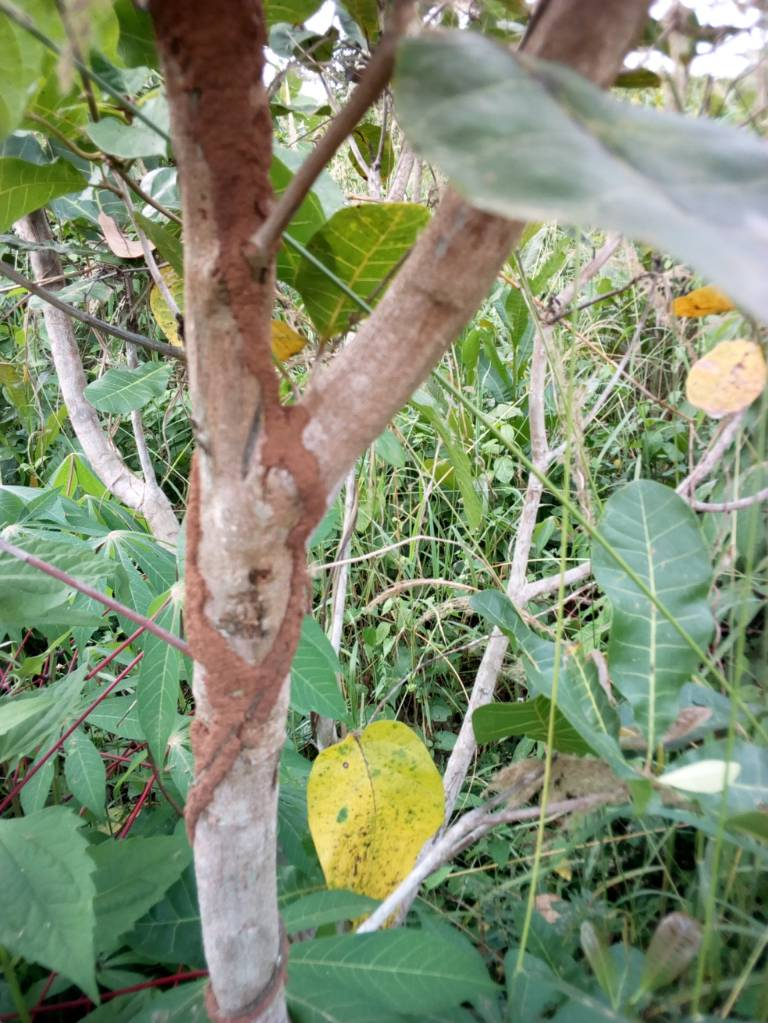Termites: (179, 2, 302, 472), (183, 488, 310, 830)
